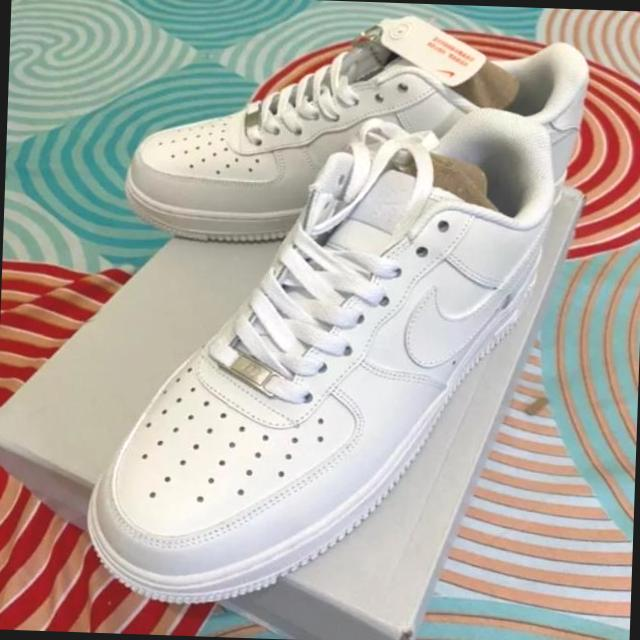nike_original_airforce: (80, 93, 566, 616), (118, 3, 596, 257)
